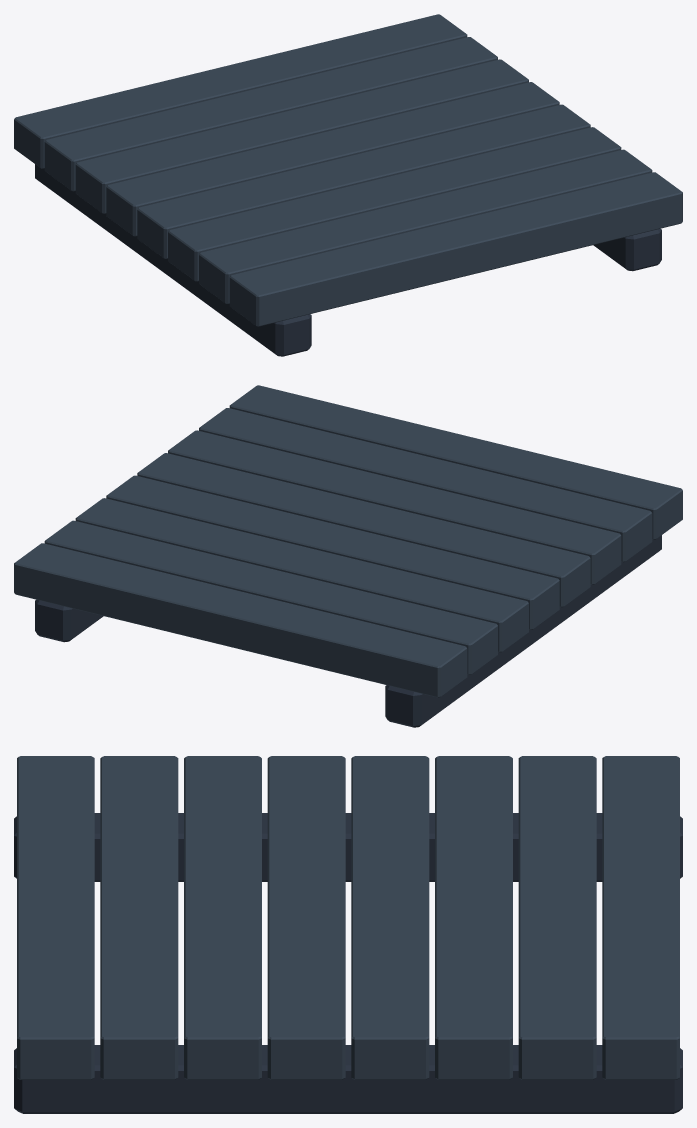
Rendered from floor-deck.glb.
3 renders of one model, top to bottom at view 1: azimuth 30°, elevation 25°; view 2: azimuth 150°, elevation 25°; view 3: azimuth 270°, elevation 25°, orthographic. The views are drawn at different scales.
Visible parts, largest first — view 1: floor-deck__body; view 2: floor-deck__body; view 3: floor-deck__body.
Boxes of the visible parts, <box> form: floor-deck__body: <box>14,14,682,356</box>; floor-deck__body: <box>14,385,682,727</box>; floor-deck__body: <box>14,756,682,1113</box>.
Size of the model in its own units: 2 by 0.3 by 2.
